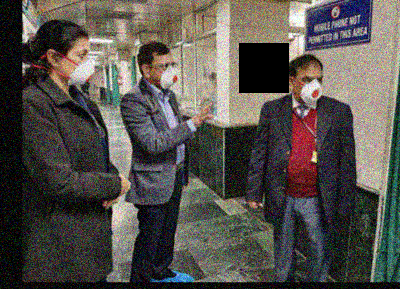with_mask: (61, 46, 95, 86), (294, 72, 324, 104), (151, 59, 178, 89)
